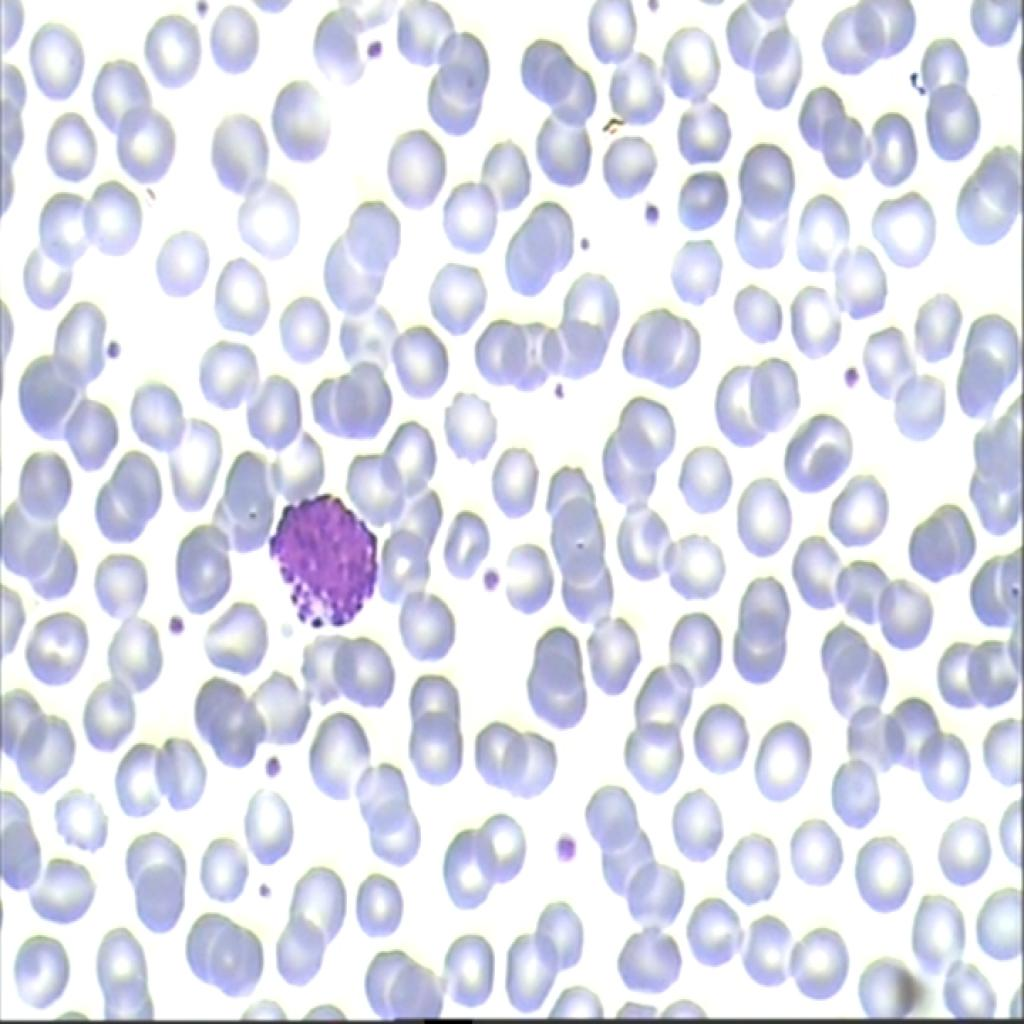Basofil: (264, 491, 386, 645)
Platelet: (828, 348, 869, 394), (91, 331, 122, 373), (545, 363, 573, 409), (362, 23, 388, 68), (162, 604, 189, 646), (643, 192, 668, 235), (573, 222, 597, 263), (557, 820, 579, 864), (256, 743, 280, 779), (475, 560, 498, 597), (250, 866, 274, 898), (168, 0, 210, 18), (643, 0, 671, 25)
